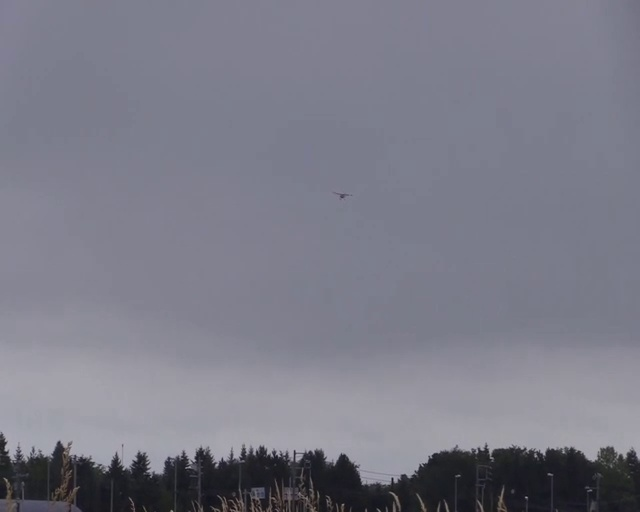AIRPLANE: (332, 191, 353, 200)
